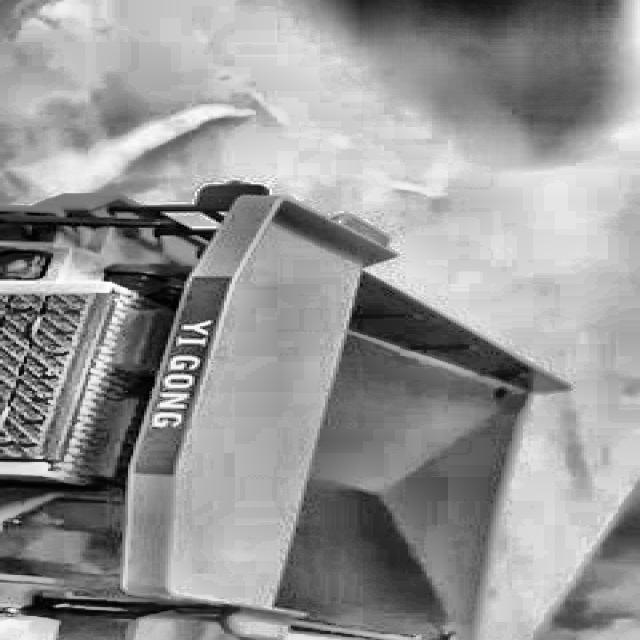dump_truck: (0, 163, 539, 640)
